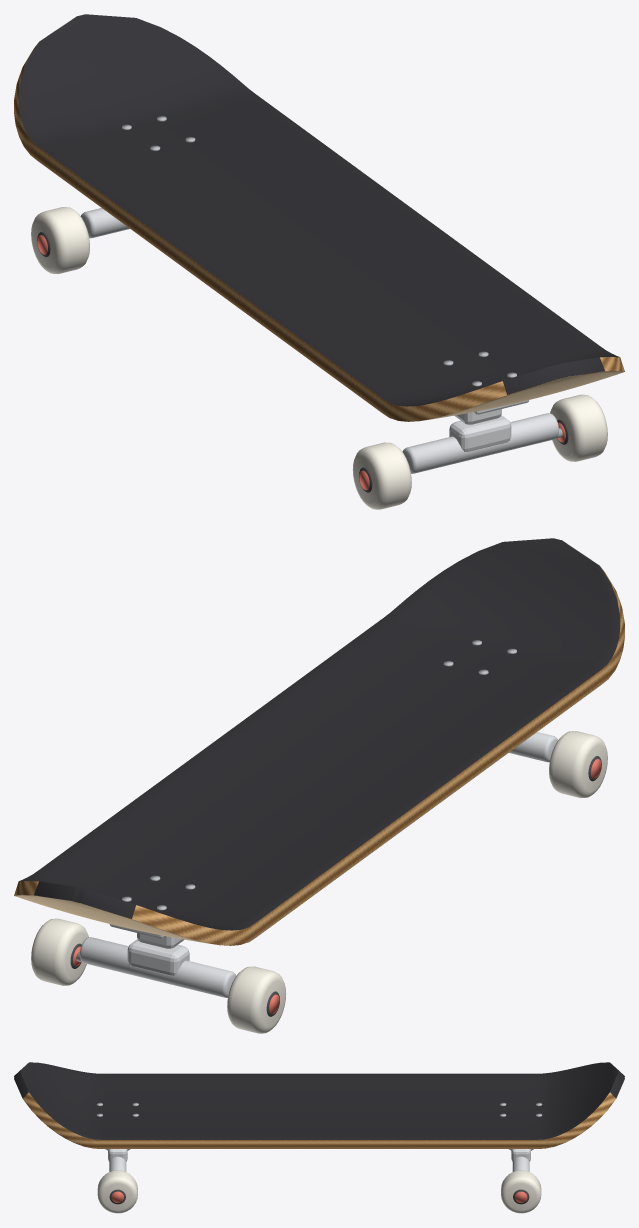
Rendered from board.glb.
The picture shows the model from 3 angles, top to bottom: view 1: azimuth 30°, elevation 25°; view 2: azimuth 150°, elevation 25°; view 3: azimuth 270°, elevation 25°; orthographic projection. The views are drawn at different scales.
Parts seen in each view (by area): view 1: Deck, Trucks, Wheel_TailL, Wheel_NoseL, Wheel_TailR; view 2: Deck, Trucks, Wheel_NoseL, Wheel_TailL, Wheel_NoseR; view 3: Deck, Wheel_NoseR, Wheel_TailR, Trucks.
Part boxes in pixels (box(x1,y1,x2,y2)): Deck: box(14, 14, 624, 421); Trucks: box(80, 116, 562, 473); Wheel_TailL: box(352, 442, 411, 509); Wheel_NoseL: box(31, 207, 89, 274); Wheel_TailR: box(550, 394, 607, 461); Deck: box(14, 538, 624, 945); Trucks: box(76, 640, 558, 997); Wheel_NoseL: box(227, 966, 286, 1033); Wheel_TailL: box(549, 731, 607, 798); Wheel_NoseR: box(31, 918, 88, 985); Deck: box(14, 1062, 624, 1148); Wheel_NoseR: box(501, 1170, 541, 1213); Wheel_TailR: box(97, 1170, 137, 1213); Trucks: box(96, 1102, 542, 1171).
Bounding box in the file's own units: 0.225 × 0.1609 × 0.8179.
9 materials, 1 textured.
